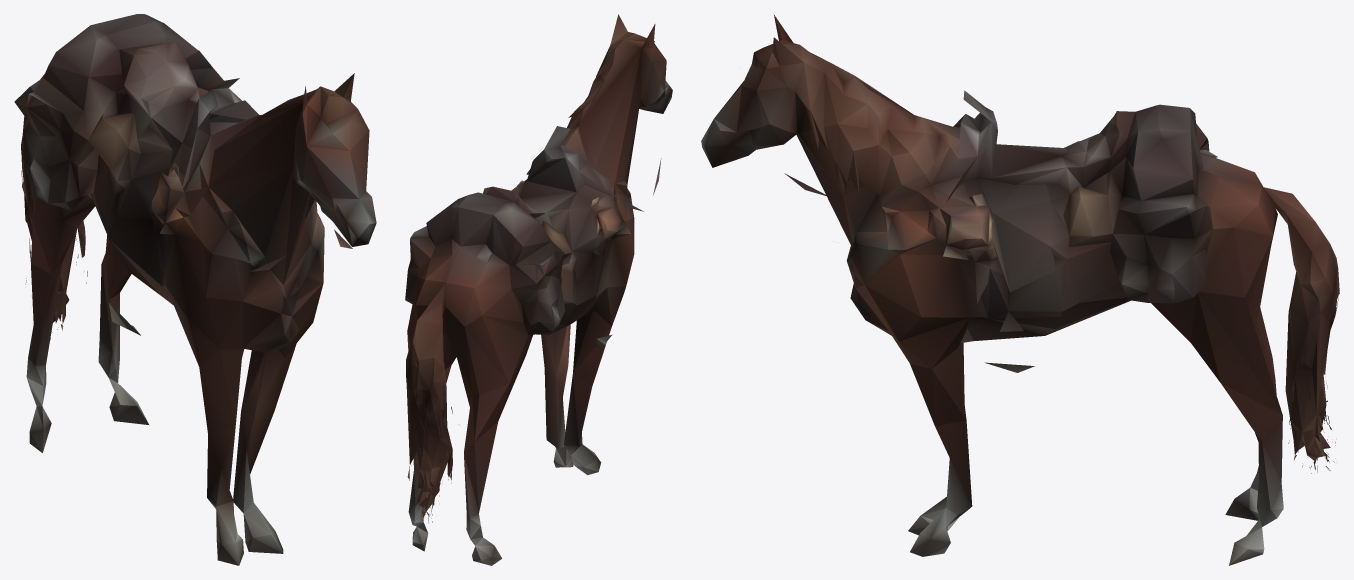
Rendered from lib_horse.vc2.glb.
The picture shows the model from 3 angles, left to right: view 1: azimuth 30°, elevation 25°; view 2: azimuth 150°, elevation 25°; view 3: azimuth 270°, elevation 25°; orthographic projection. The views are drawn at different scales.
Visible parts, largest first — view 1: lib_horse; view 2: lib_horse; view 3: lib_horse.
Part boxes in pixels (x1,y1,x2,y2): lib_horse: [14, 14, 376, 565]; lib_horse: [405, 14, 672, 565]; lib_horse: [701, 15, 1339, 565].
Size of the model in its own units: 0.6121 by 1.68 by 1.87.
